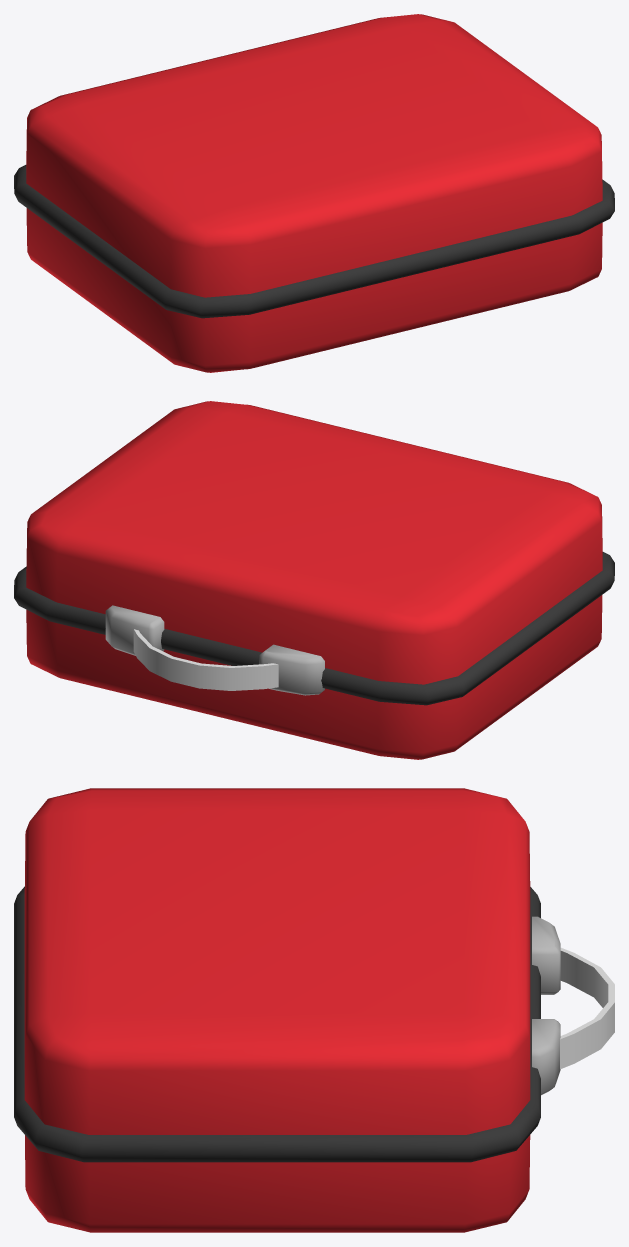
File: medkit.glb
3 views of the same model, one above another, from view 1: azimuth 30°, elevation 25°; view 2: azimuth 150°, elevation 25°; view 3: azimuth 270°, elevation 25° (orthographic). The views are drawn at different scales.
Visible parts, largest first — view 1: medkit.col; view 2: medkit.col; view 3: medkit.col.
Part boxes in pixels (x1,y1,x2,y2): medkit.col: (14,14,614,372); medkit.col: (14,401,614,759); medkit.col: (14,788,614,1232).
Size of the model in its own units: 1 by 0.3206 by 0.8873.
